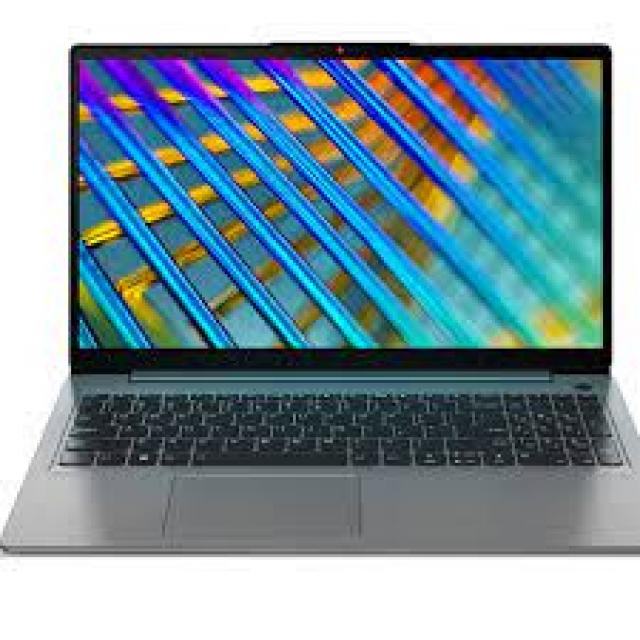others: (3, 26, 640, 557)
